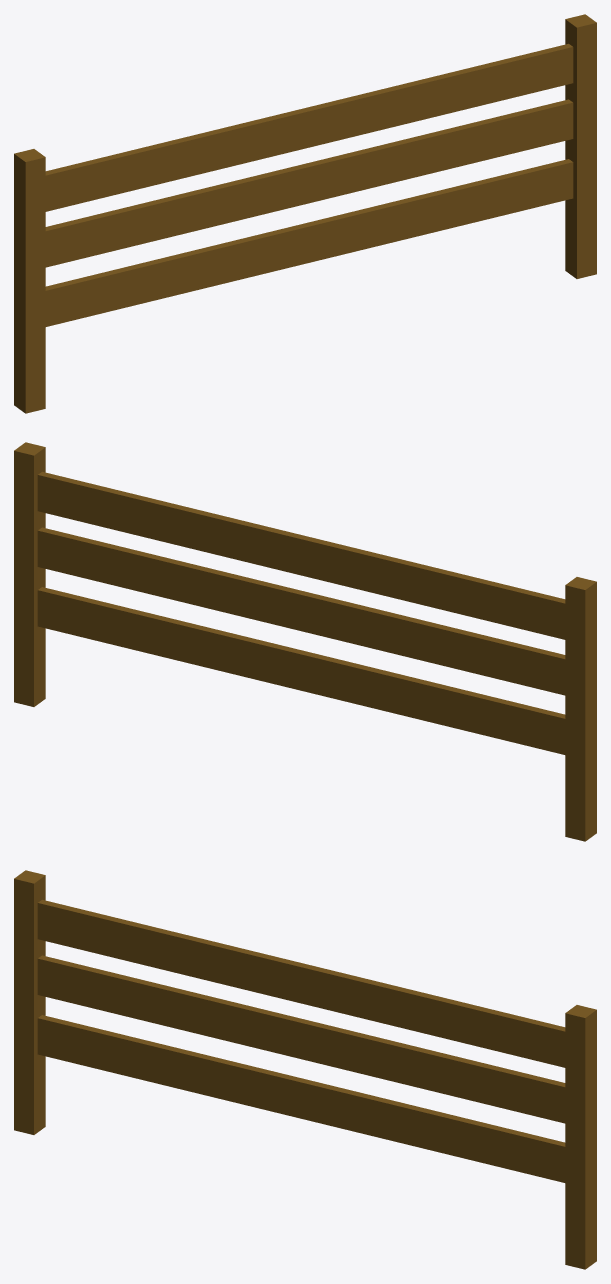
Rendered from Fence.glb.
The picture shows the model from 3 angles, top to bottom: view 1: azimuth 30°, elevation 25°; view 2: azimuth 150°, elevation 25°; view 3: azimuth 330°, elevation 25°; orthographic projection.
Parts seen in each view (by area): view 1: Fence; view 2: Fence; view 3: Fence.
Boxes of the visible parts, bbox=[...] form: Fence: bbox=[14, 14, 596, 413]; Fence: bbox=[14, 442, 596, 841]; Fence: bbox=[14, 870, 596, 1269].
Bounding box in the file's own units: 2.07 × 0.8722 × 0.0731.
